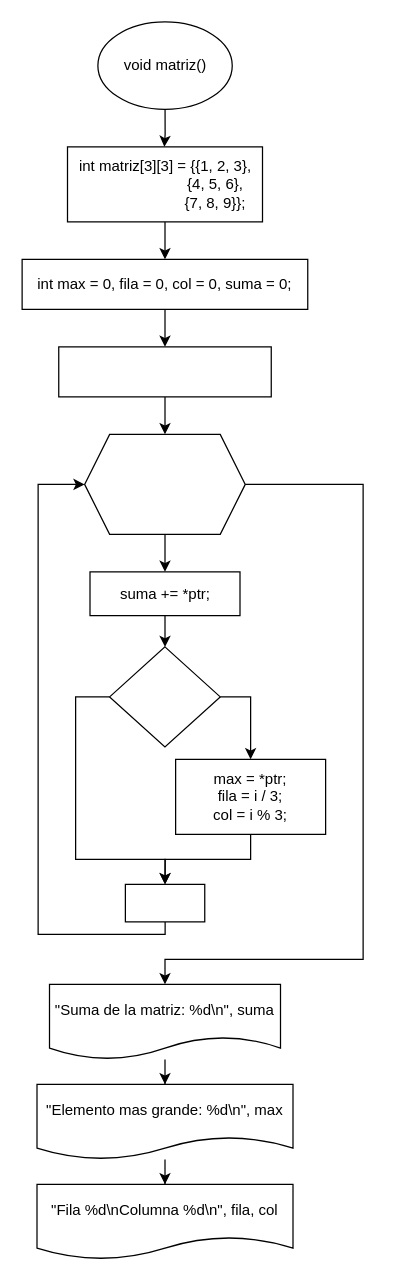
This 395x1281 diagram has some shape labels left out. The centre of each missing label's shape, as x and y in pixels:
*ptr > max: [164,696]
Desde i = 0 Mientras i < 3 * 3 Incremento i++: [164,483]
int *ptr = &matriz[0][0];: [164,371]
ptr++: [164,902]
